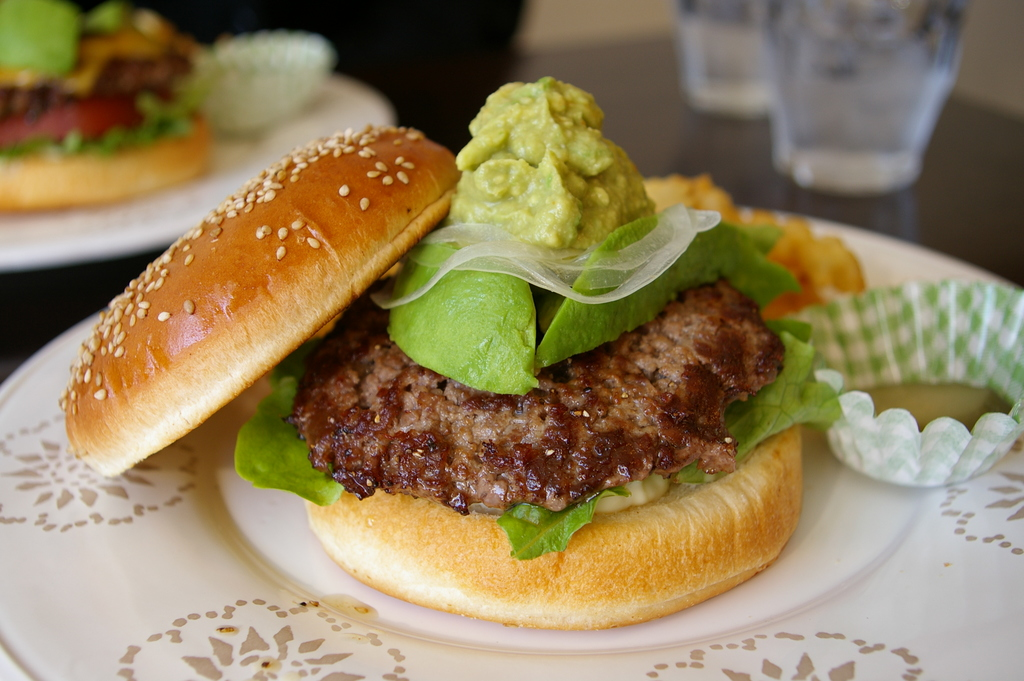Hamburger: (58, 76, 842, 630), (0, 0, 212, 211)
